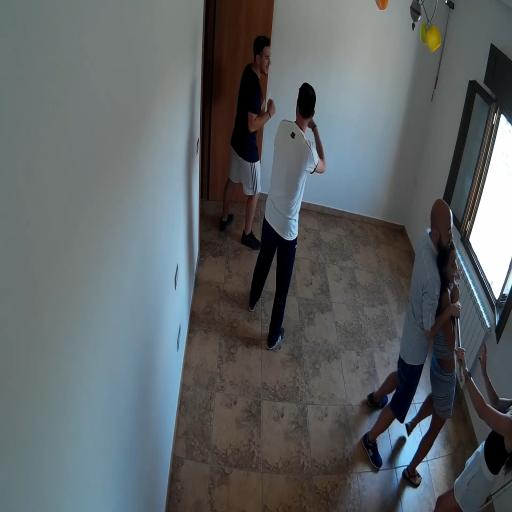violencia: (350, 183, 470, 496)
